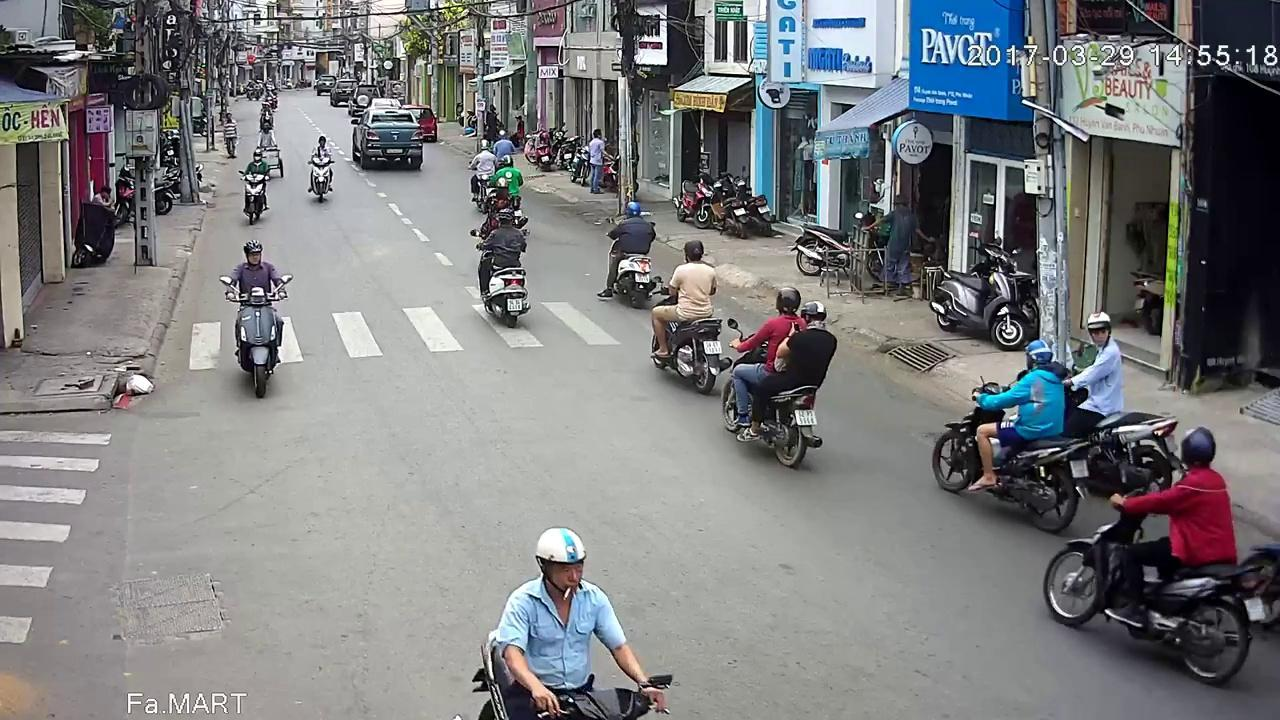xe hoi: (351, 105, 420, 172), (404, 101, 443, 141)
xe may: (1047, 392, 1276, 720), (473, 493, 666, 720), (932, 337, 1088, 536), (1054, 311, 1179, 503), (718, 281, 837, 462), (646, 238, 732, 396), (228, 239, 285, 399), (475, 212, 530, 329), (601, 201, 655, 311), (235, 143, 266, 222), (466, 71, 494, 147), (489, 88, 522, 143), (308, 136, 333, 199), (493, 62, 516, 89)
